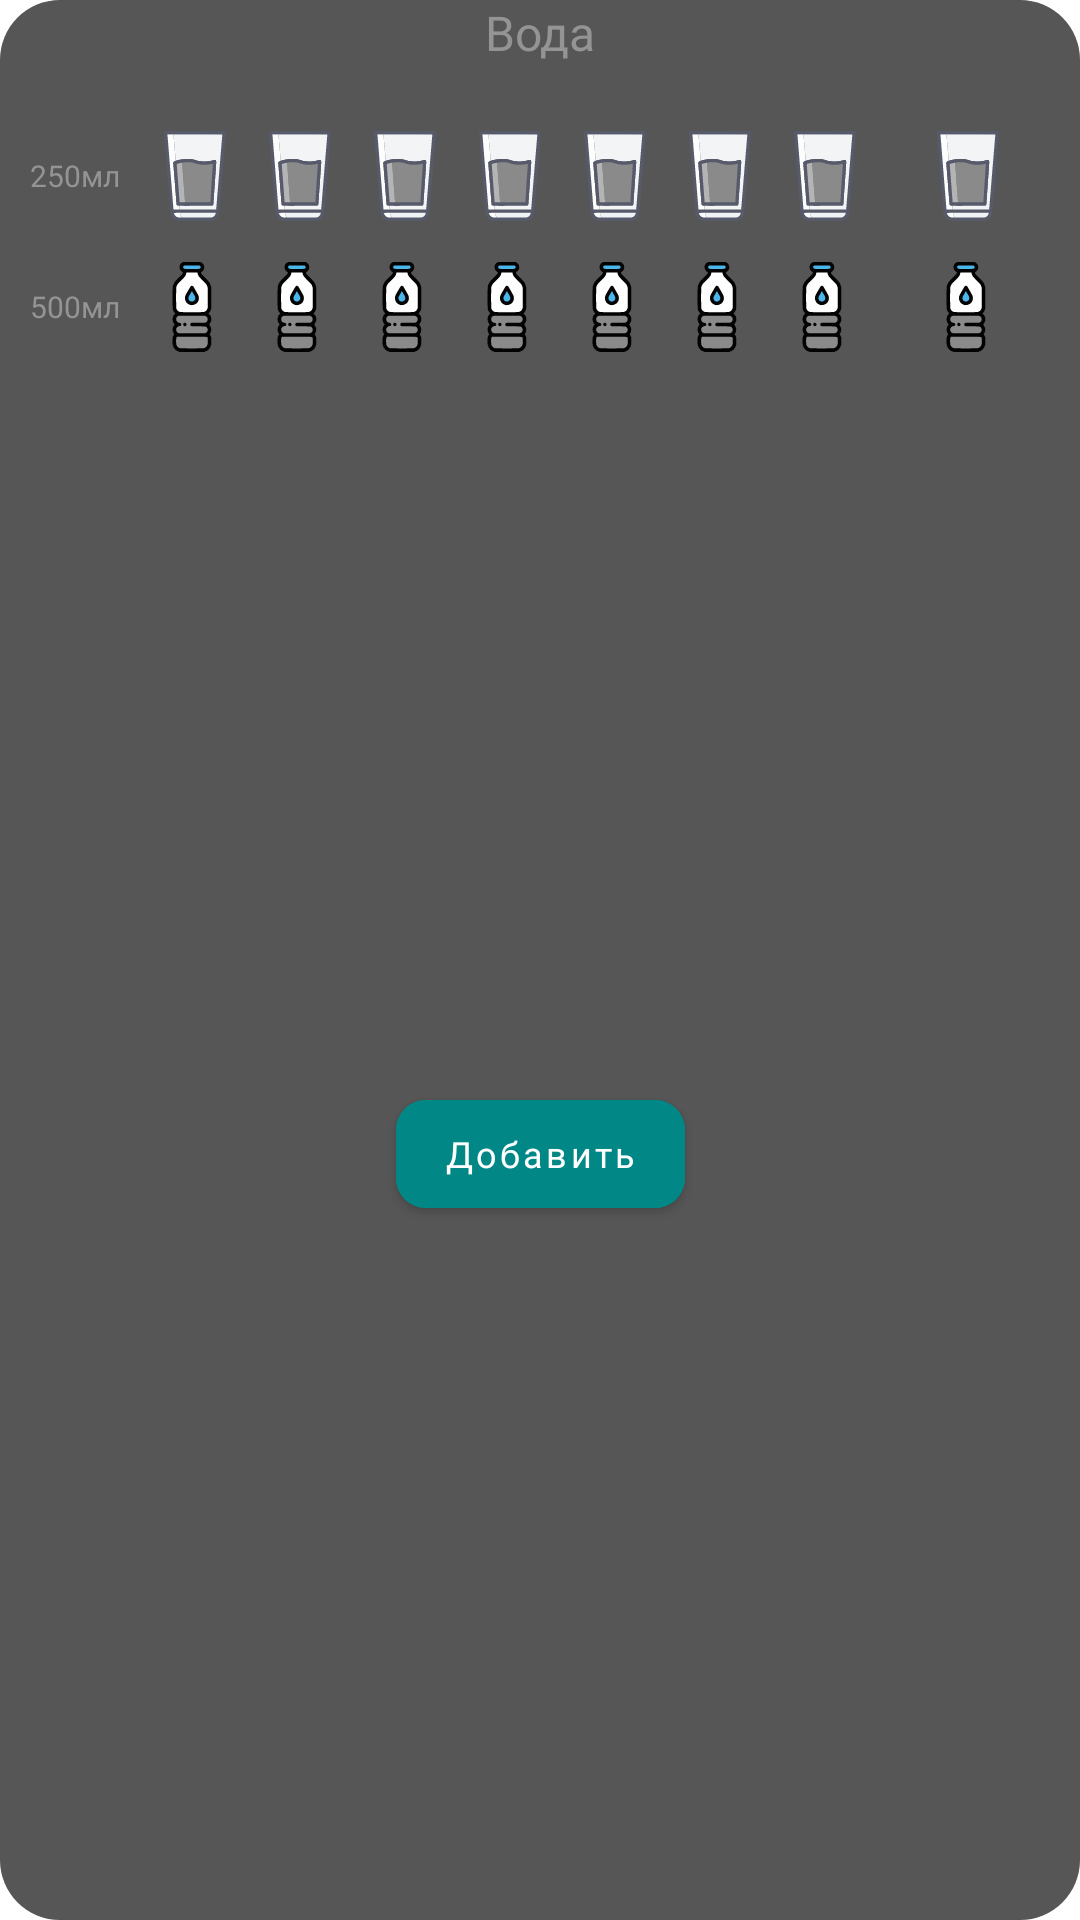

Icon click points for this 1080 x 1920 phone screenshot, format (x=x, y=y):
bottle water null: (x=191, y=307), (x=296, y=307), (x=401, y=307), (x=506, y=307), (x=611, y=307), (x=716, y=307), (x=821, y=307), (x=965, y=307)
glass water null: (x=195, y=176), (x=300, y=176), (x=405, y=176), (x=510, y=176), (x=615, y=176), (x=720, y=176), (x=825, y=176), (x=968, y=176)
